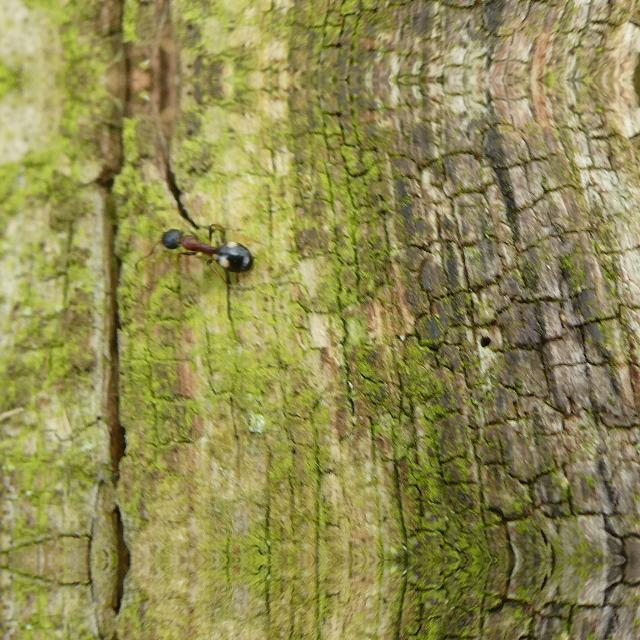Dolichoderus: (129, 208, 273, 290)
